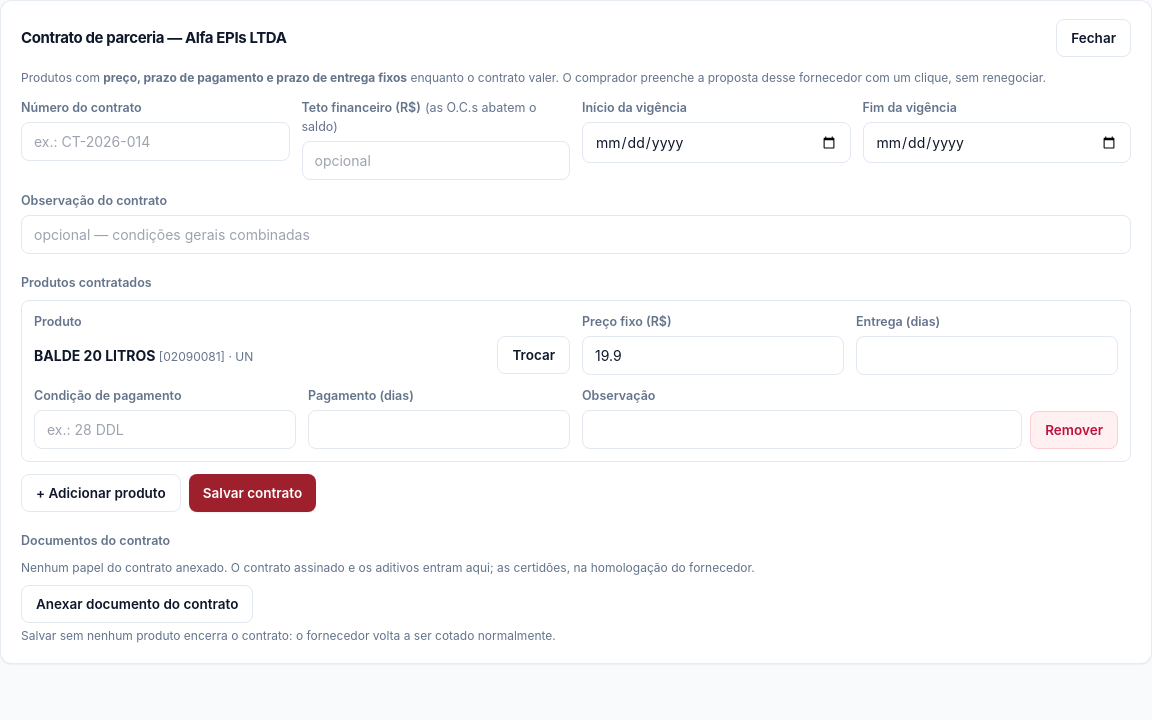
Test case: o produto do contrato se escolhe buscando › "Trocar" reabre a busca para quem já escolheu
The image size is (1152, 720).
Click the button "Trocar". click: (534, 355)
box: [498,336,570,374]
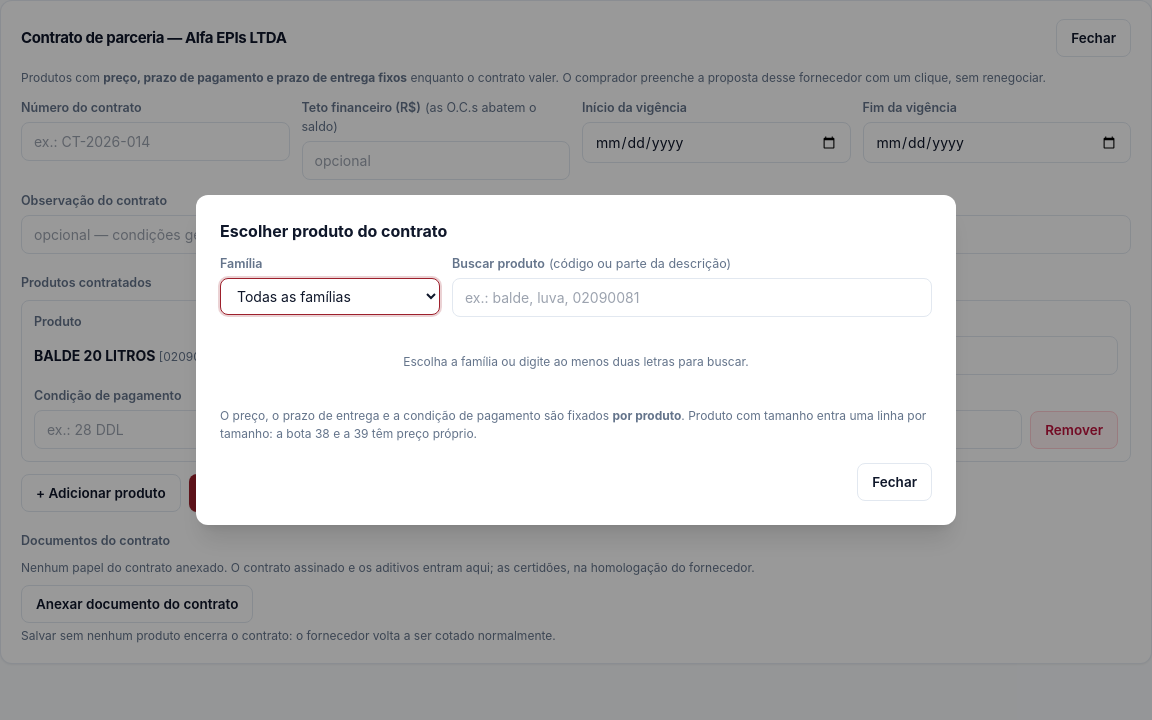
Expected: the dialog is shown, [196,195,956,525]
